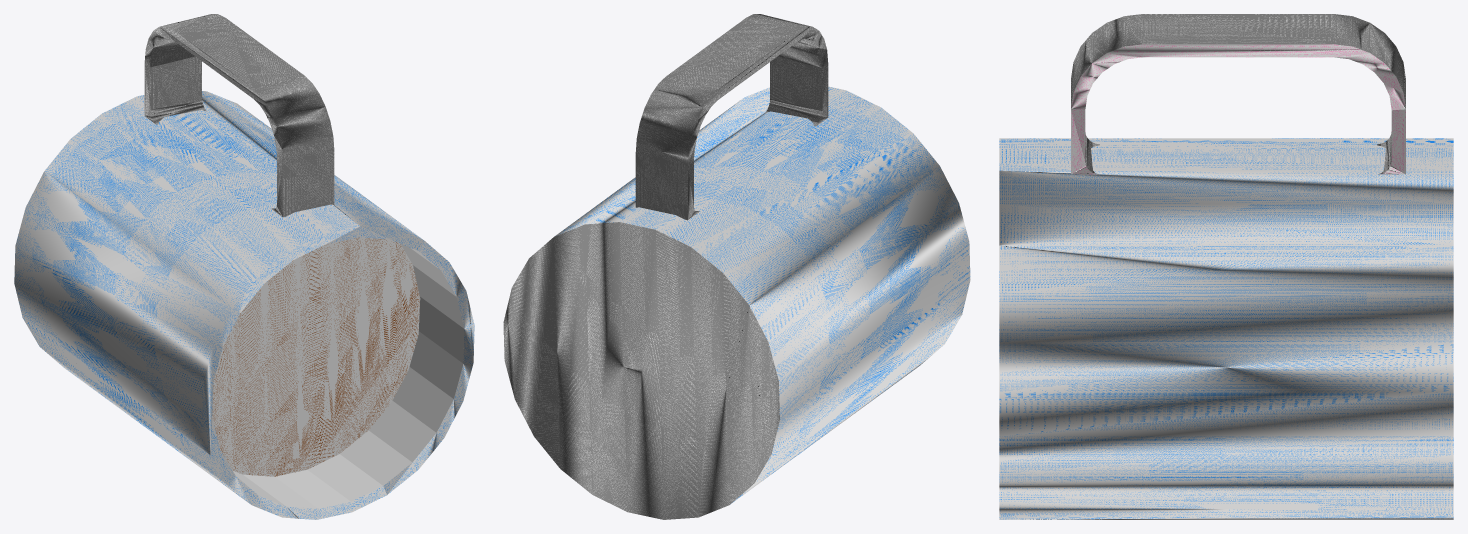
File: model_align.obj
3 renders of one model, left to right at view 1: azimuth 30°, elevation 25°; view 2: azimuth 150°, elevation 25°; view 3: azimuth 270°, elevation 25°, orthographic. The views are drawn at different scales.
Bounding box in the file's own units: 0.0844 × 0.1155 × 0.1008.
